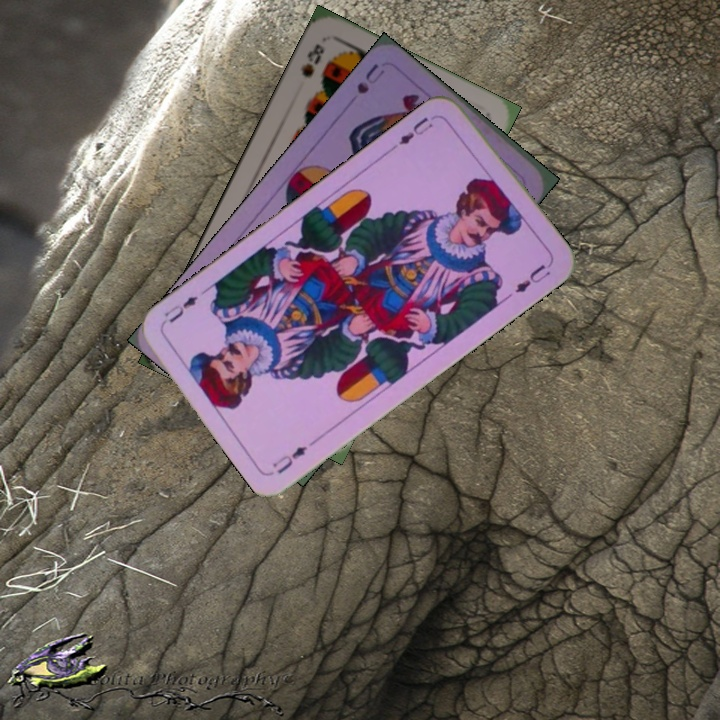EU: (389, 112, 436, 152), (268, 441, 311, 477)
S8: (296, 39, 327, 81)
SU: (352, 59, 388, 97)
